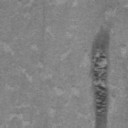oxide scale of plate system: (90, 24, 110, 128)
